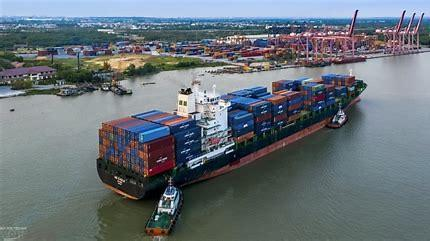Ship: (96, 73, 380, 205), (142, 187, 185, 239), (328, 106, 352, 131)
